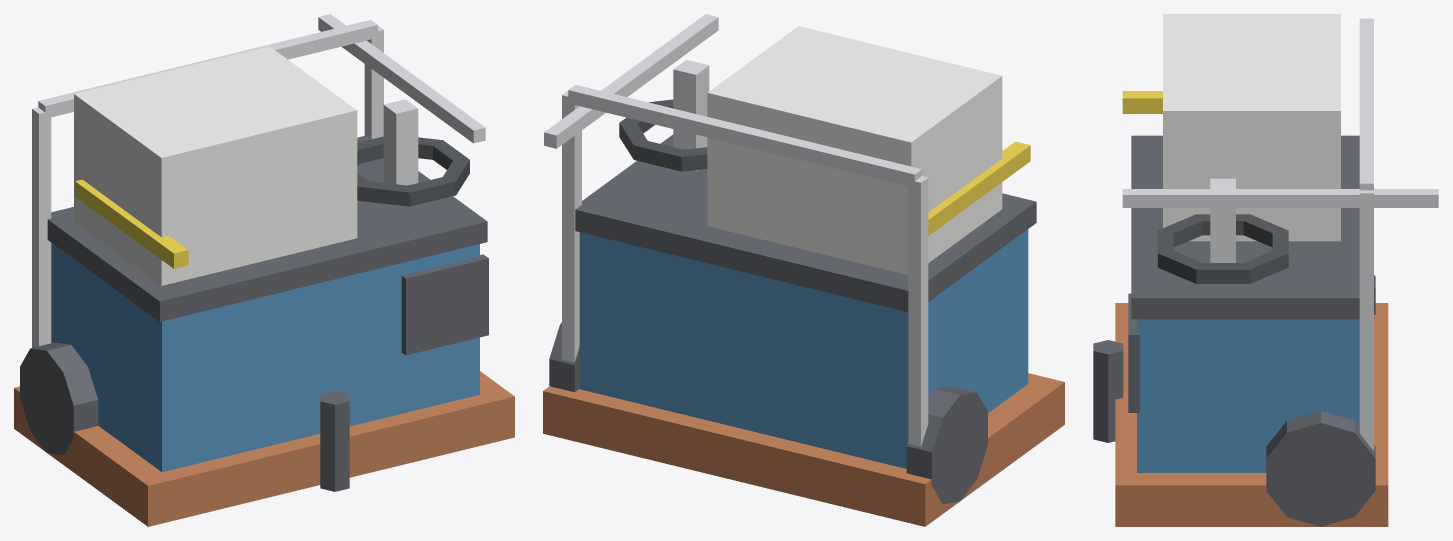
The model's file is shipyard-and-dry-dock-shipyard-and-dry-dock-pressure-w-3dd4872b__37951.glb.
The picture shows the model from 3 angles, left to right: view 1: azimuth 30°, elevation 25°; view 2: azimuth 150°, elevation 25°; view 3: azimuth 270°, elevation 25°; orthographic projection. The views are drawn at different scales.
Parts seen in each view (by area): view 1: shipyard-and-dry-dock-pressure-washer; view 2: shipyard-and-dry-dock-pressure-washer; view 3: shipyard-and-dry-dock-pressure-washer.
Boxes of the visible parts, <box> form: shipyard-and-dry-dock-pressure-washer: <box>14,14,514,526</box>; shipyard-and-dry-dock-pressure-washer: <box>543,14,1064,526</box>; shipyard-and-dry-dock-pressure-washer: <box>1093,14,1438,526</box>.
Size of the model in its own units: 1.5 by 1.34 by 1.2.
